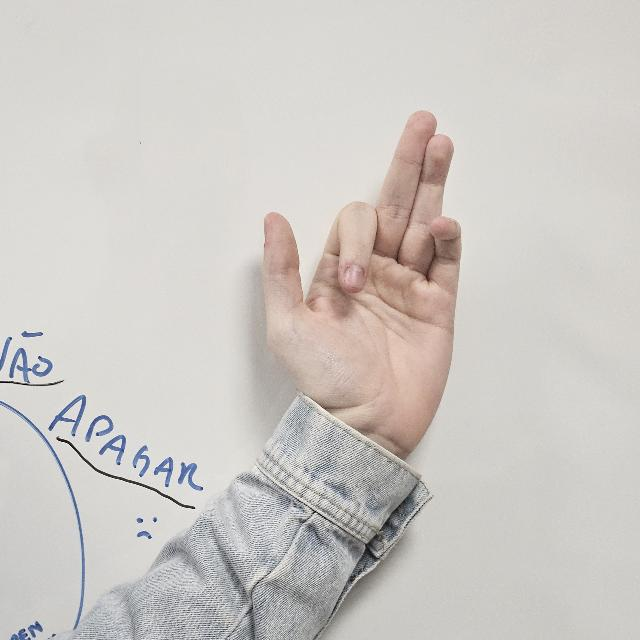R: (260, 110, 460, 450)
